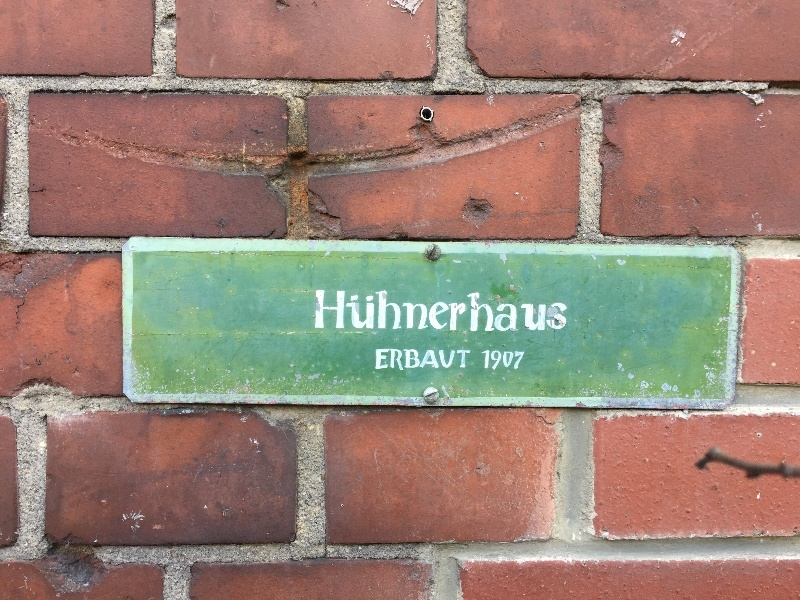text: (321, 290, 336, 332), (337, 290, 352, 332), (353, 290, 368, 332), (369, 290, 384, 332), (385, 290, 400, 332), (401, 290, 416, 332), (417, 290, 432, 332), (433, 290, 448, 332), (449, 290, 464, 332), (465, 290, 480, 332), (481, 290, 496, 332), (497, 290, 512, 332), (513, 290, 528, 332), (529, 290, 544, 332), (545, 290, 560, 332), (385, 348, 400, 371), (401, 348, 416, 371), (417, 348, 432, 371), (433, 348, 448, 371), (449, 348, 464, 371), (561, 290, 569, 332), (481, 350, 496, 370), (497, 350, 512, 370), (513, 350, 526, 370), (314, 290, 320, 332), (376, 348, 384, 371), (465, 348, 472, 371)
